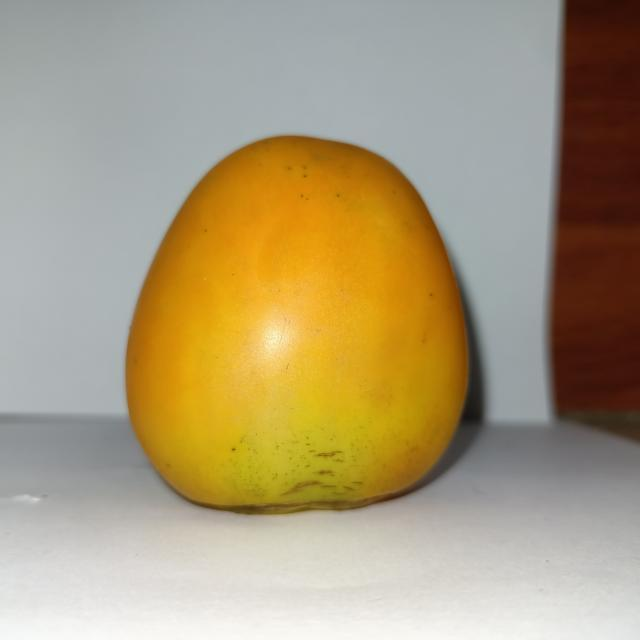Red: (123, 132, 471, 514)
